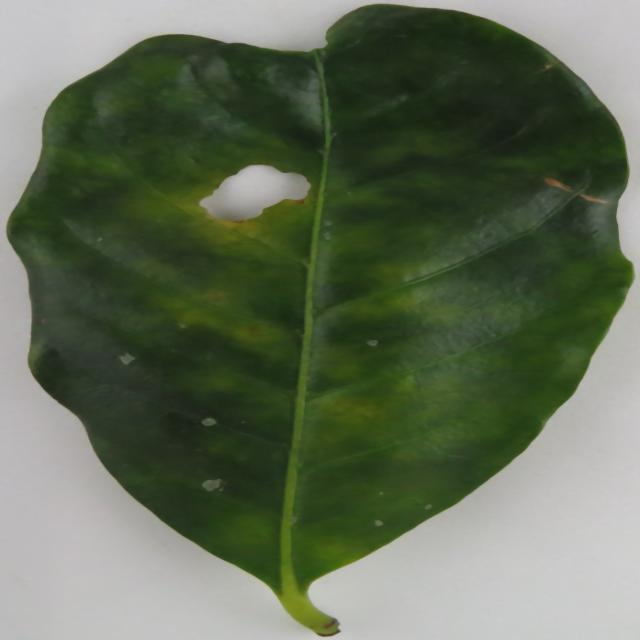DeficienciaNutricional-Boro: (9, 5, 632, 636)
